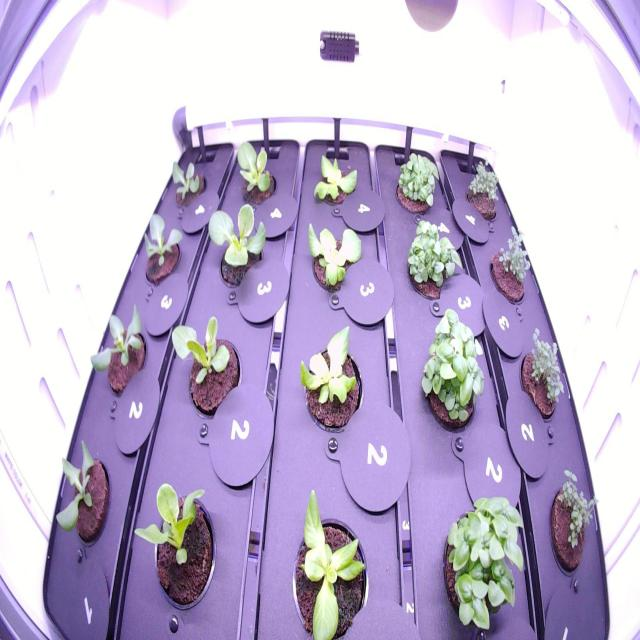young: (277, 483, 373, 637), (127, 465, 222, 614), (159, 304, 247, 429), (291, 317, 367, 437), (45, 436, 113, 554), (198, 196, 274, 300), (84, 297, 150, 403), (297, 212, 367, 296), (224, 134, 285, 208), (134, 207, 186, 291), (305, 144, 361, 217), (159, 154, 210, 212)
